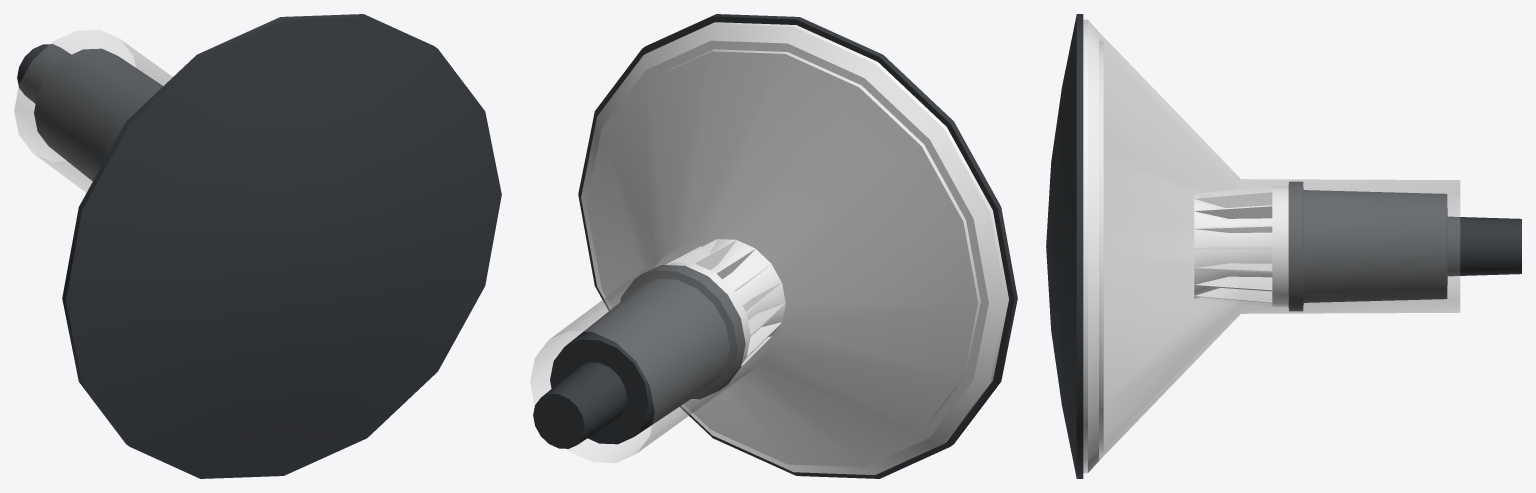
The model's file is BDS471.obj.
The picture shows the model from 3 angles, left to right: view 1: azimuth 30°, elevation 25°; view 2: azimuth 150°, elevation 25°; view 3: azimuth 270°, elevation 25°; orthographic projection. The views are drawn at different scales.
Parts seen in each view (by area): view 1: BezierCurve.001, Glas.002; view 2: BezierCurve.001, Glas.002, Rippen.001; view 3: Glas.002, BezierCurve.001, Rippen.001.
Boxes of the visible parts, box(x1,y1,x2,y2) form: BezierCurve.001: box(17, 14, 501, 478); Glas.002: box(14, 30, 172, 192); BezierCurve.001: box(533, 14, 1017, 478); Glas.002: box(530, 41, 988, 466); Rippen.001: box(666, 239, 785, 366); Glas.002: box(1099, 32, 1460, 460); BezierCurve.001: box(1046, 14, 1521, 478); Rippen.001: box(1194, 186, 1272, 306).
Size of the model in its own units: 0.64 by 0.64 by 0.6542.
4 materials, 3 textured.
